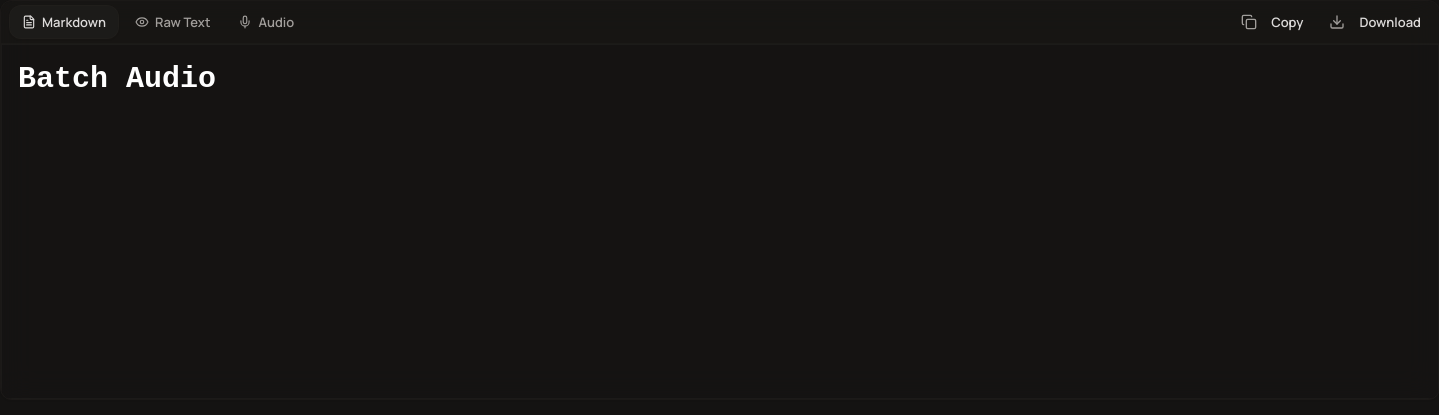
Test case: OutputViewer component › renders multi-audio batch relationship metadata and flattens source timelines
Click the button "Audio" at point(266, 22), box x1=226 y1=5 x2=306 y2=39
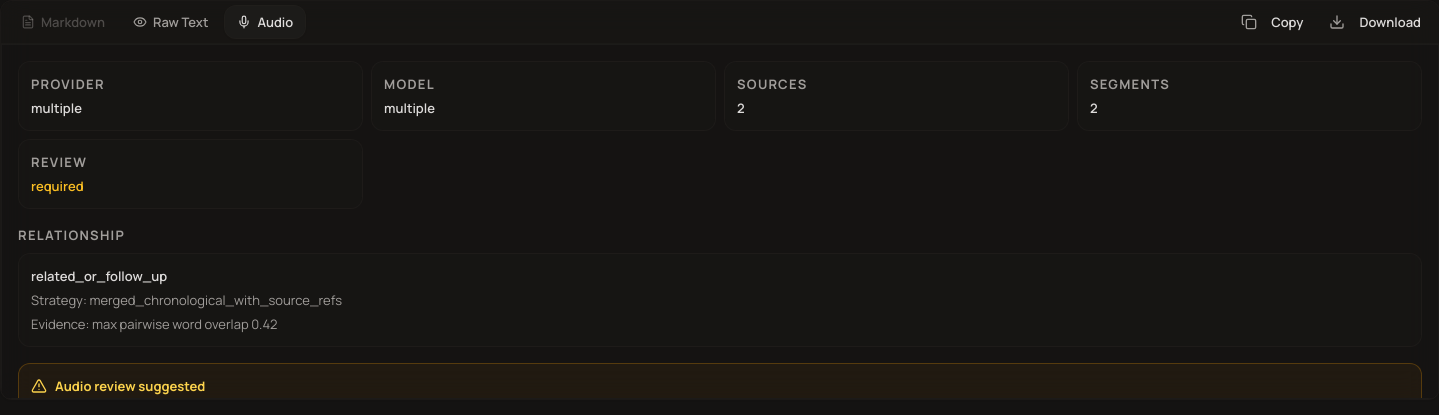
Result: the heading "Relationship" is shown at x1=18 y1=226 x2=125 y2=244
Result: the text "related_or_follow_up" is shown at x1=31 y1=267 x2=167 y2=285
Result: the text "Sources" is shown at x1=737 y1=75 x2=808 y2=93
